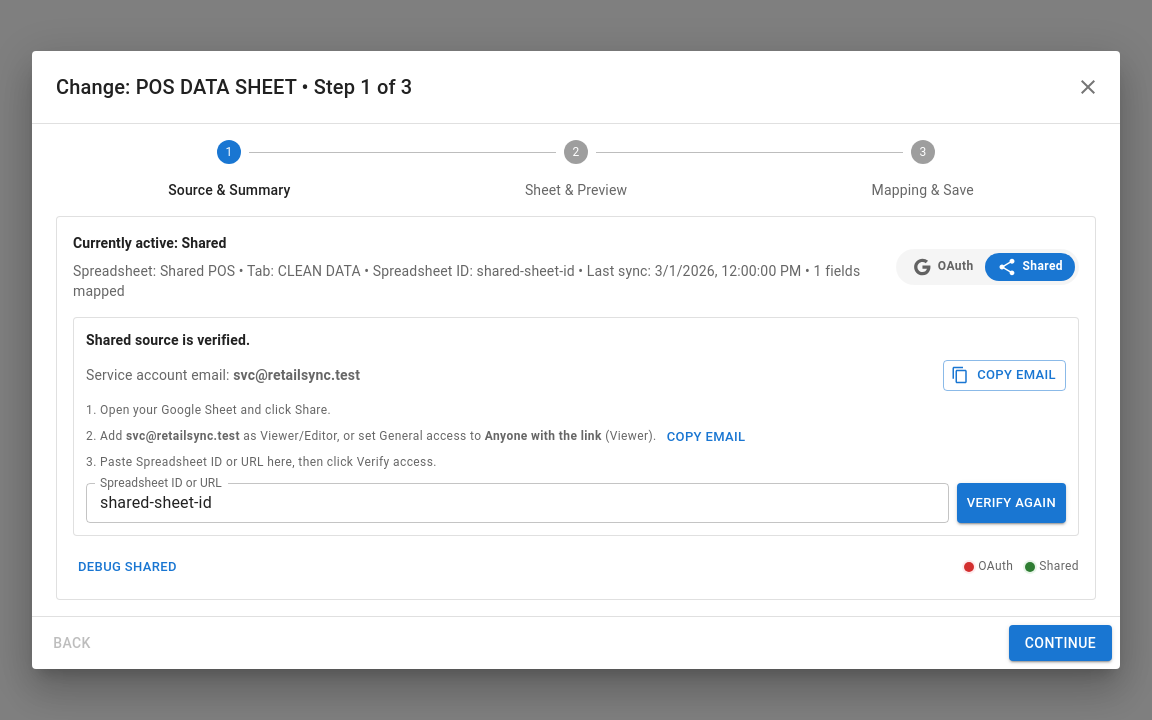
GoogleSheetsSetupInline › disables continue with guidance when oauth is selected but not connected
The image size is (1152, 720).
Click the button with aria-label "OAuth source".
click(943, 267)  # box [900, 253, 986, 281]
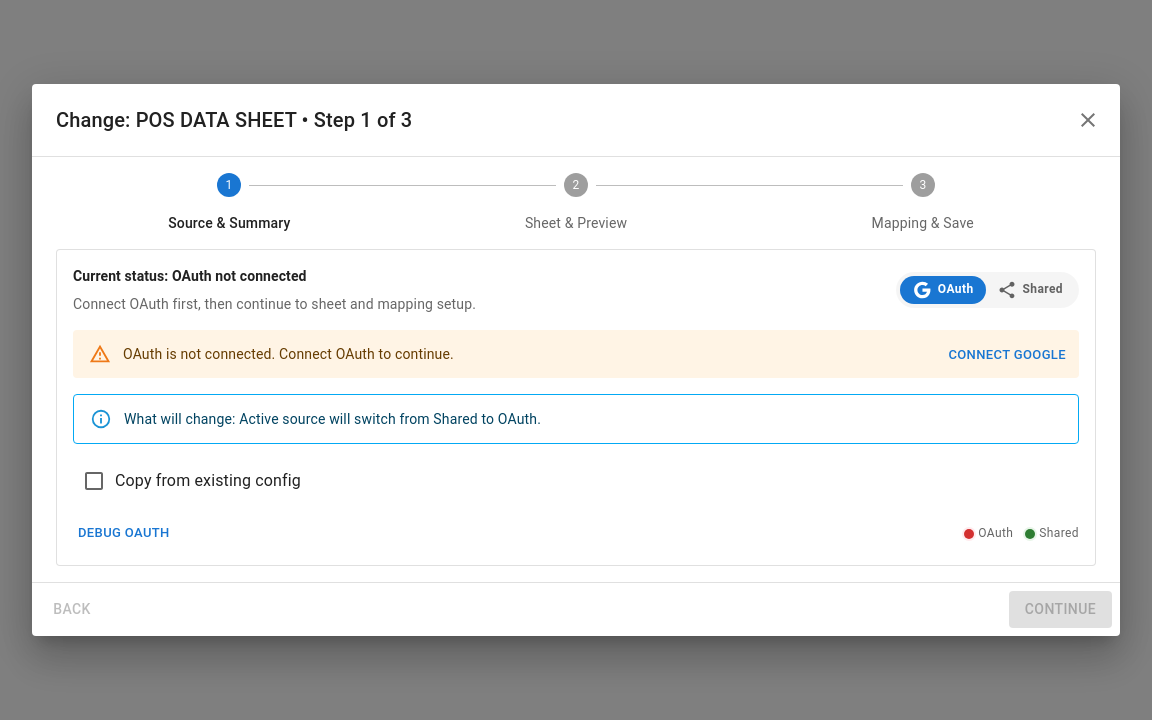
Check: the text "OAuth is not connected. Connect OAuth to continue." is shown, box [123, 346, 454, 362]
Check: the button "Connect Google" is shown, box [943, 340, 1071, 371]
